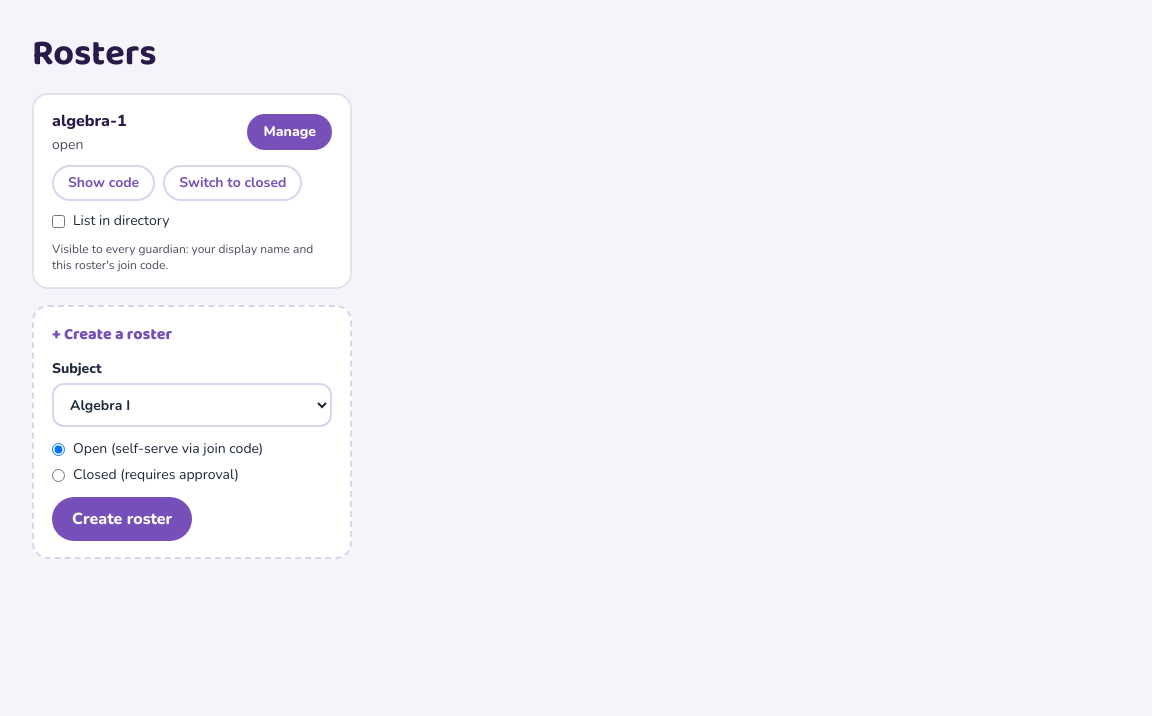
RostersFlow assign-a-quiz form › blocks submission when subset mode has no learner checked (FR-003)
Click the button "Manage". click: (290,132)
box: [248,114,332,150]
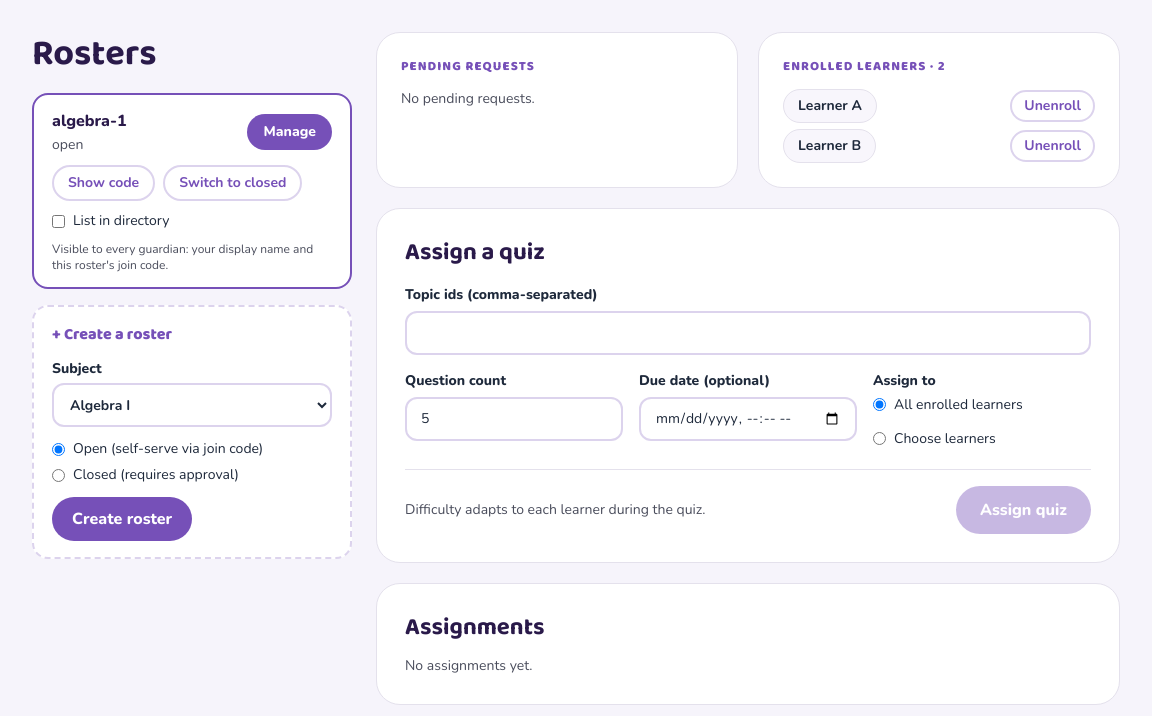
Now the form with test id "assign-quiz-form" is shown, box [376,208,1120,562]
Type "integers-and-operations" into the field with test id "assign-topic-ids". click: (748,332)
box: [405,310,1091,354]
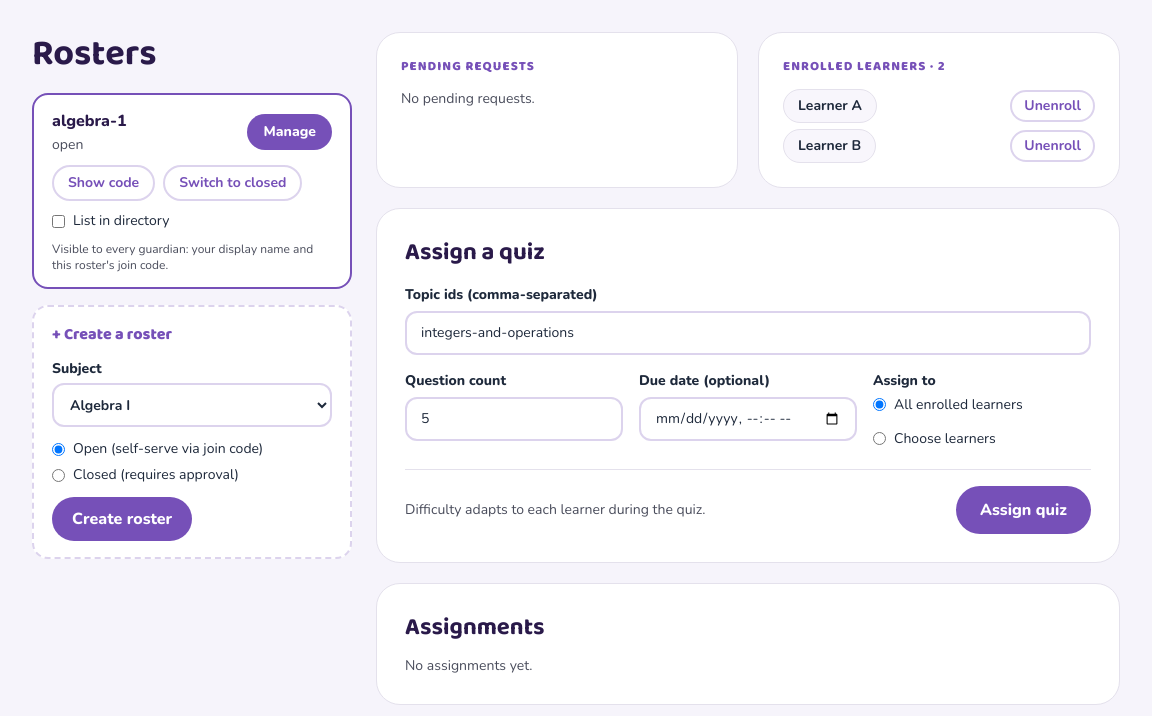
Click the radio button with test id "assign-target-subset". click: (880,438)
box: [873,432,886,445]
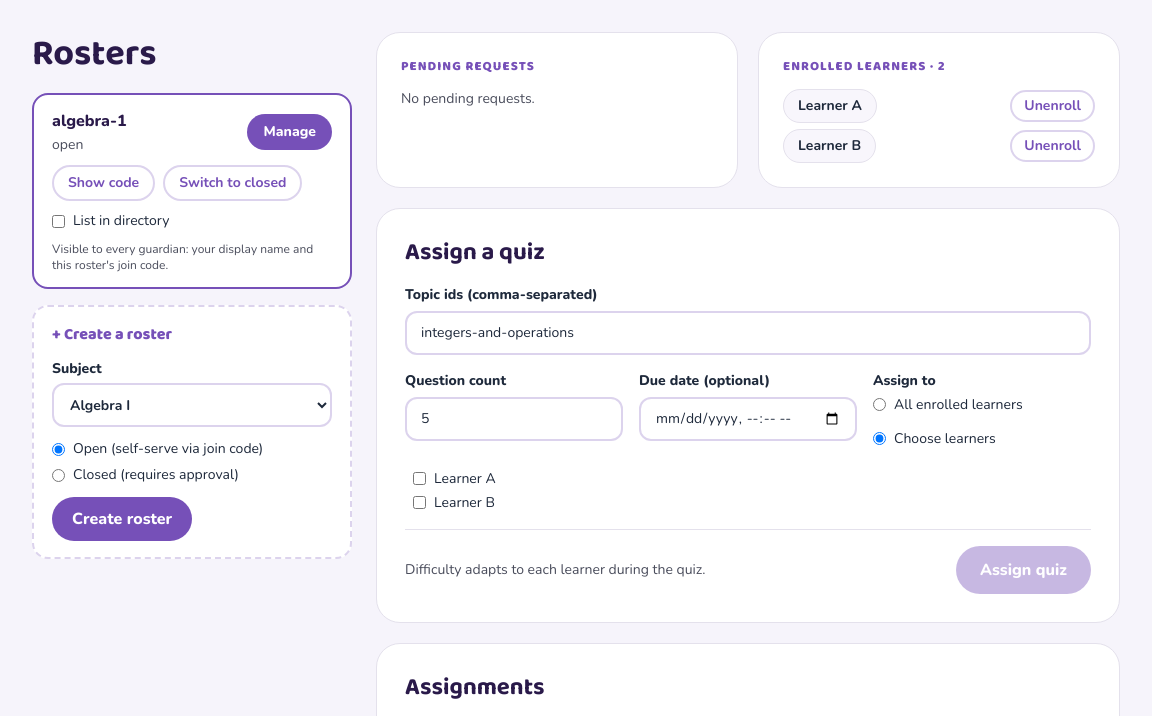
Now the button "Assign quiz" is disabled, box [956,546,1091,594]
